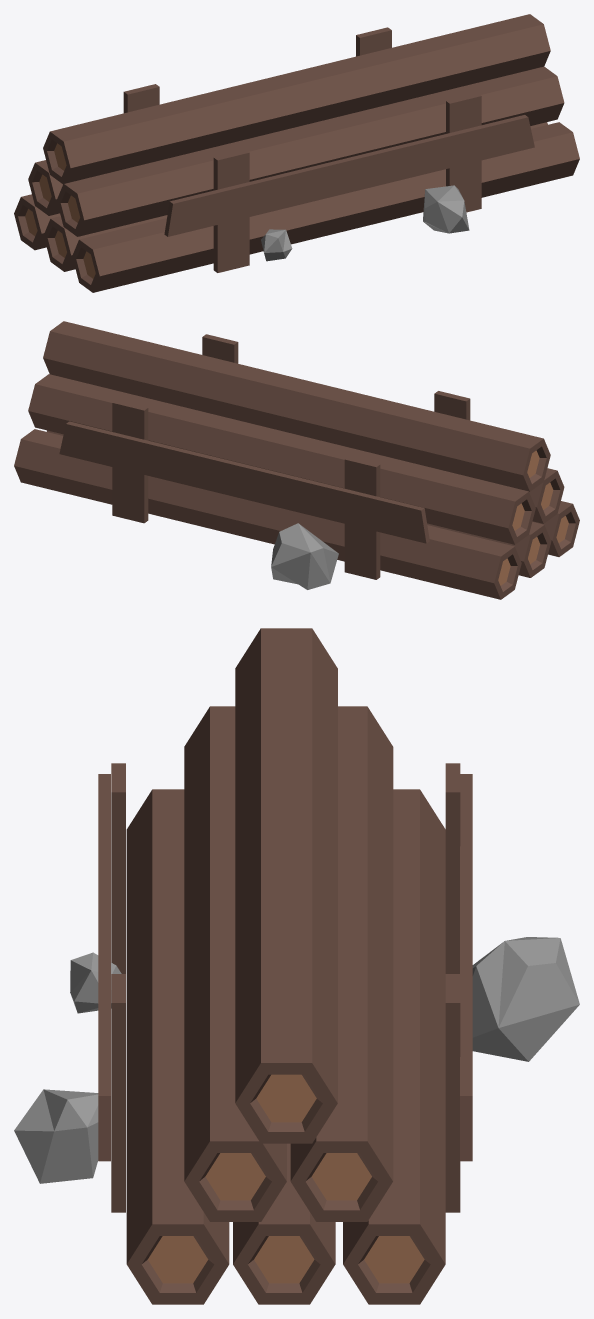
The model's file is TrunkStack_01.fbx.
3 views of the same model, one above another, from view 1: azimuth 30°, elevation 25°; view 2: azimuth 150°, elevation 25°; view 3: azimuth 270°, elevation 25° (orthographic). The views are drawn at different scales.
Parts seen in each view (by area): view 1: TrunkStack_01; view 2: TrunkStack_01; view 3: TrunkStack_01.
Part boxes in pixels (x1,y1,x2,y2): TrunkStack_01: [14, 14, 579, 292]; TrunkStack_01: [14, 321, 579, 599]; TrunkStack_01: [14, 628, 579, 1304].
Size of the model in its own units: 536 by 147 by 294.
